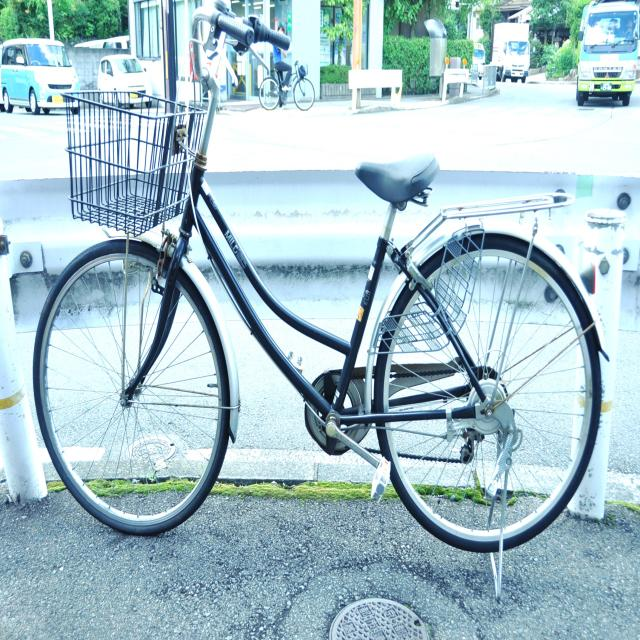basket: (64, 87, 202, 235)
